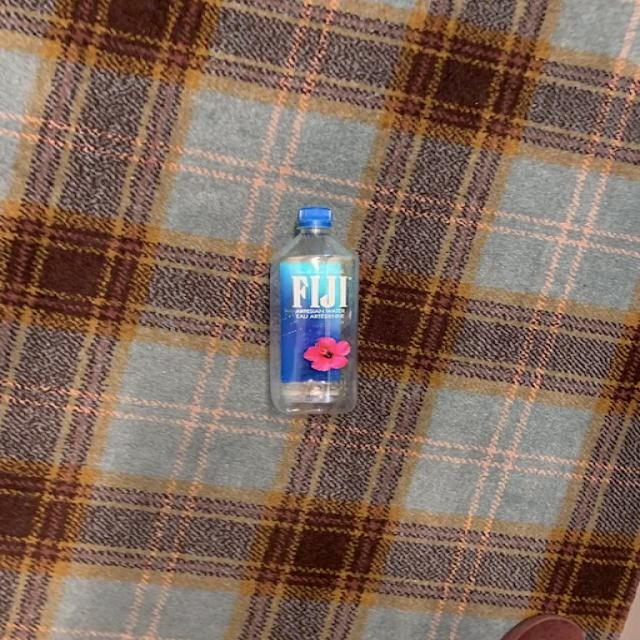bottle: (271, 207, 360, 414)
